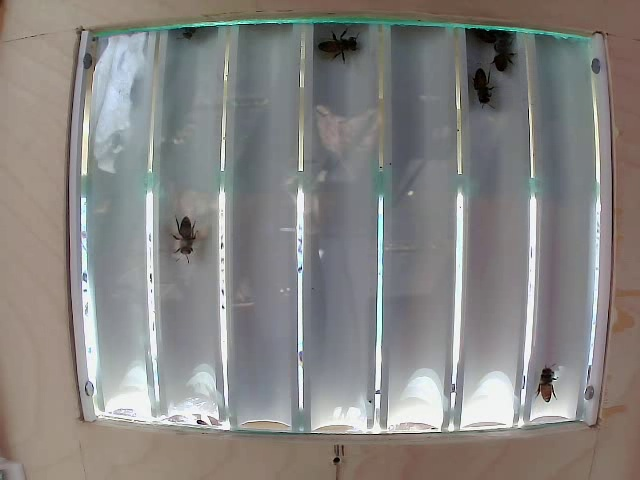bee: (159, 202, 209, 264), (462, 54, 506, 111), (309, 20, 366, 61), (486, 31, 514, 78)
